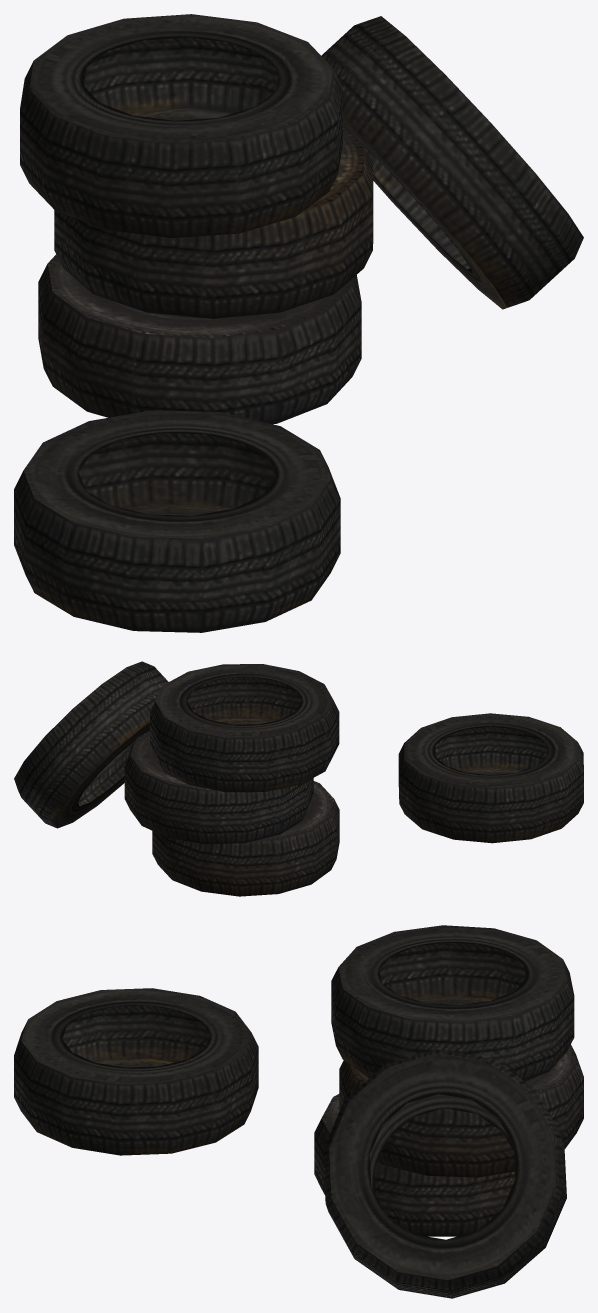
Rendered from free_car_tire_set_-_ps2_style_urban_props.glb.
3 renders of one model, top to bottom at view 1: azimuth 30°, elevation 25°; view 2: azimuth 150°, elevation 25°; view 3: azimuth 270°, elevation 25°, orthographic. The views are drawn at different scales.
Visible parts, largest first — view 1: Cylinder.004, Cylinder.001, Cylinder.003, Cylinder, Cylinder.002; view 2: Cylinder.001, Cylinder.004, Cylinder.003, Cylinder, Cylinder.002; view 3: Cylinder.004, Cylinder.003, Cylinder.001, Cylinder.002, Cylinder.
Part boxes in pixels (left/top/right/bottom): Cylinder.004: left=14, top=410, right=340, bottom=632; Cylinder.001: left=20, top=14, right=342, bottom=238; Cylinder.003: left=321, top=16, right=583, bottom=309; Cylinder: left=38, top=254, right=361, bottom=424; Cylinder.002: left=54, top=127, right=373, bottom=318; Cylinder.001: left=150, top=664, right=339, bottom=792; Cylinder.004: left=398, top=713, right=583, bottom=843; Cylinder.003: left=14, top=661, right=168, bottom=828; Cylinder: left=152, top=781, right=339, bottom=896; Cylinder.002: left=124, top=730, right=313, bottom=844; Cylinder.004: left=14, top=988, right=258, bottom=1155; Cylinder.003: left=323, top=1049, right=566, bottom=1298; Cylinder.001: left=331, top=925, right=574, bottom=1081; Cylinder.002: left=339, top=1044, right=583, bottom=1177; Cylinder: left=314, top=1094, right=515, bottom=1236.
Size of the model in its own units: 1.61 by 0.6008 by 1.46.
Materials: 2 (2 with a texture image).
